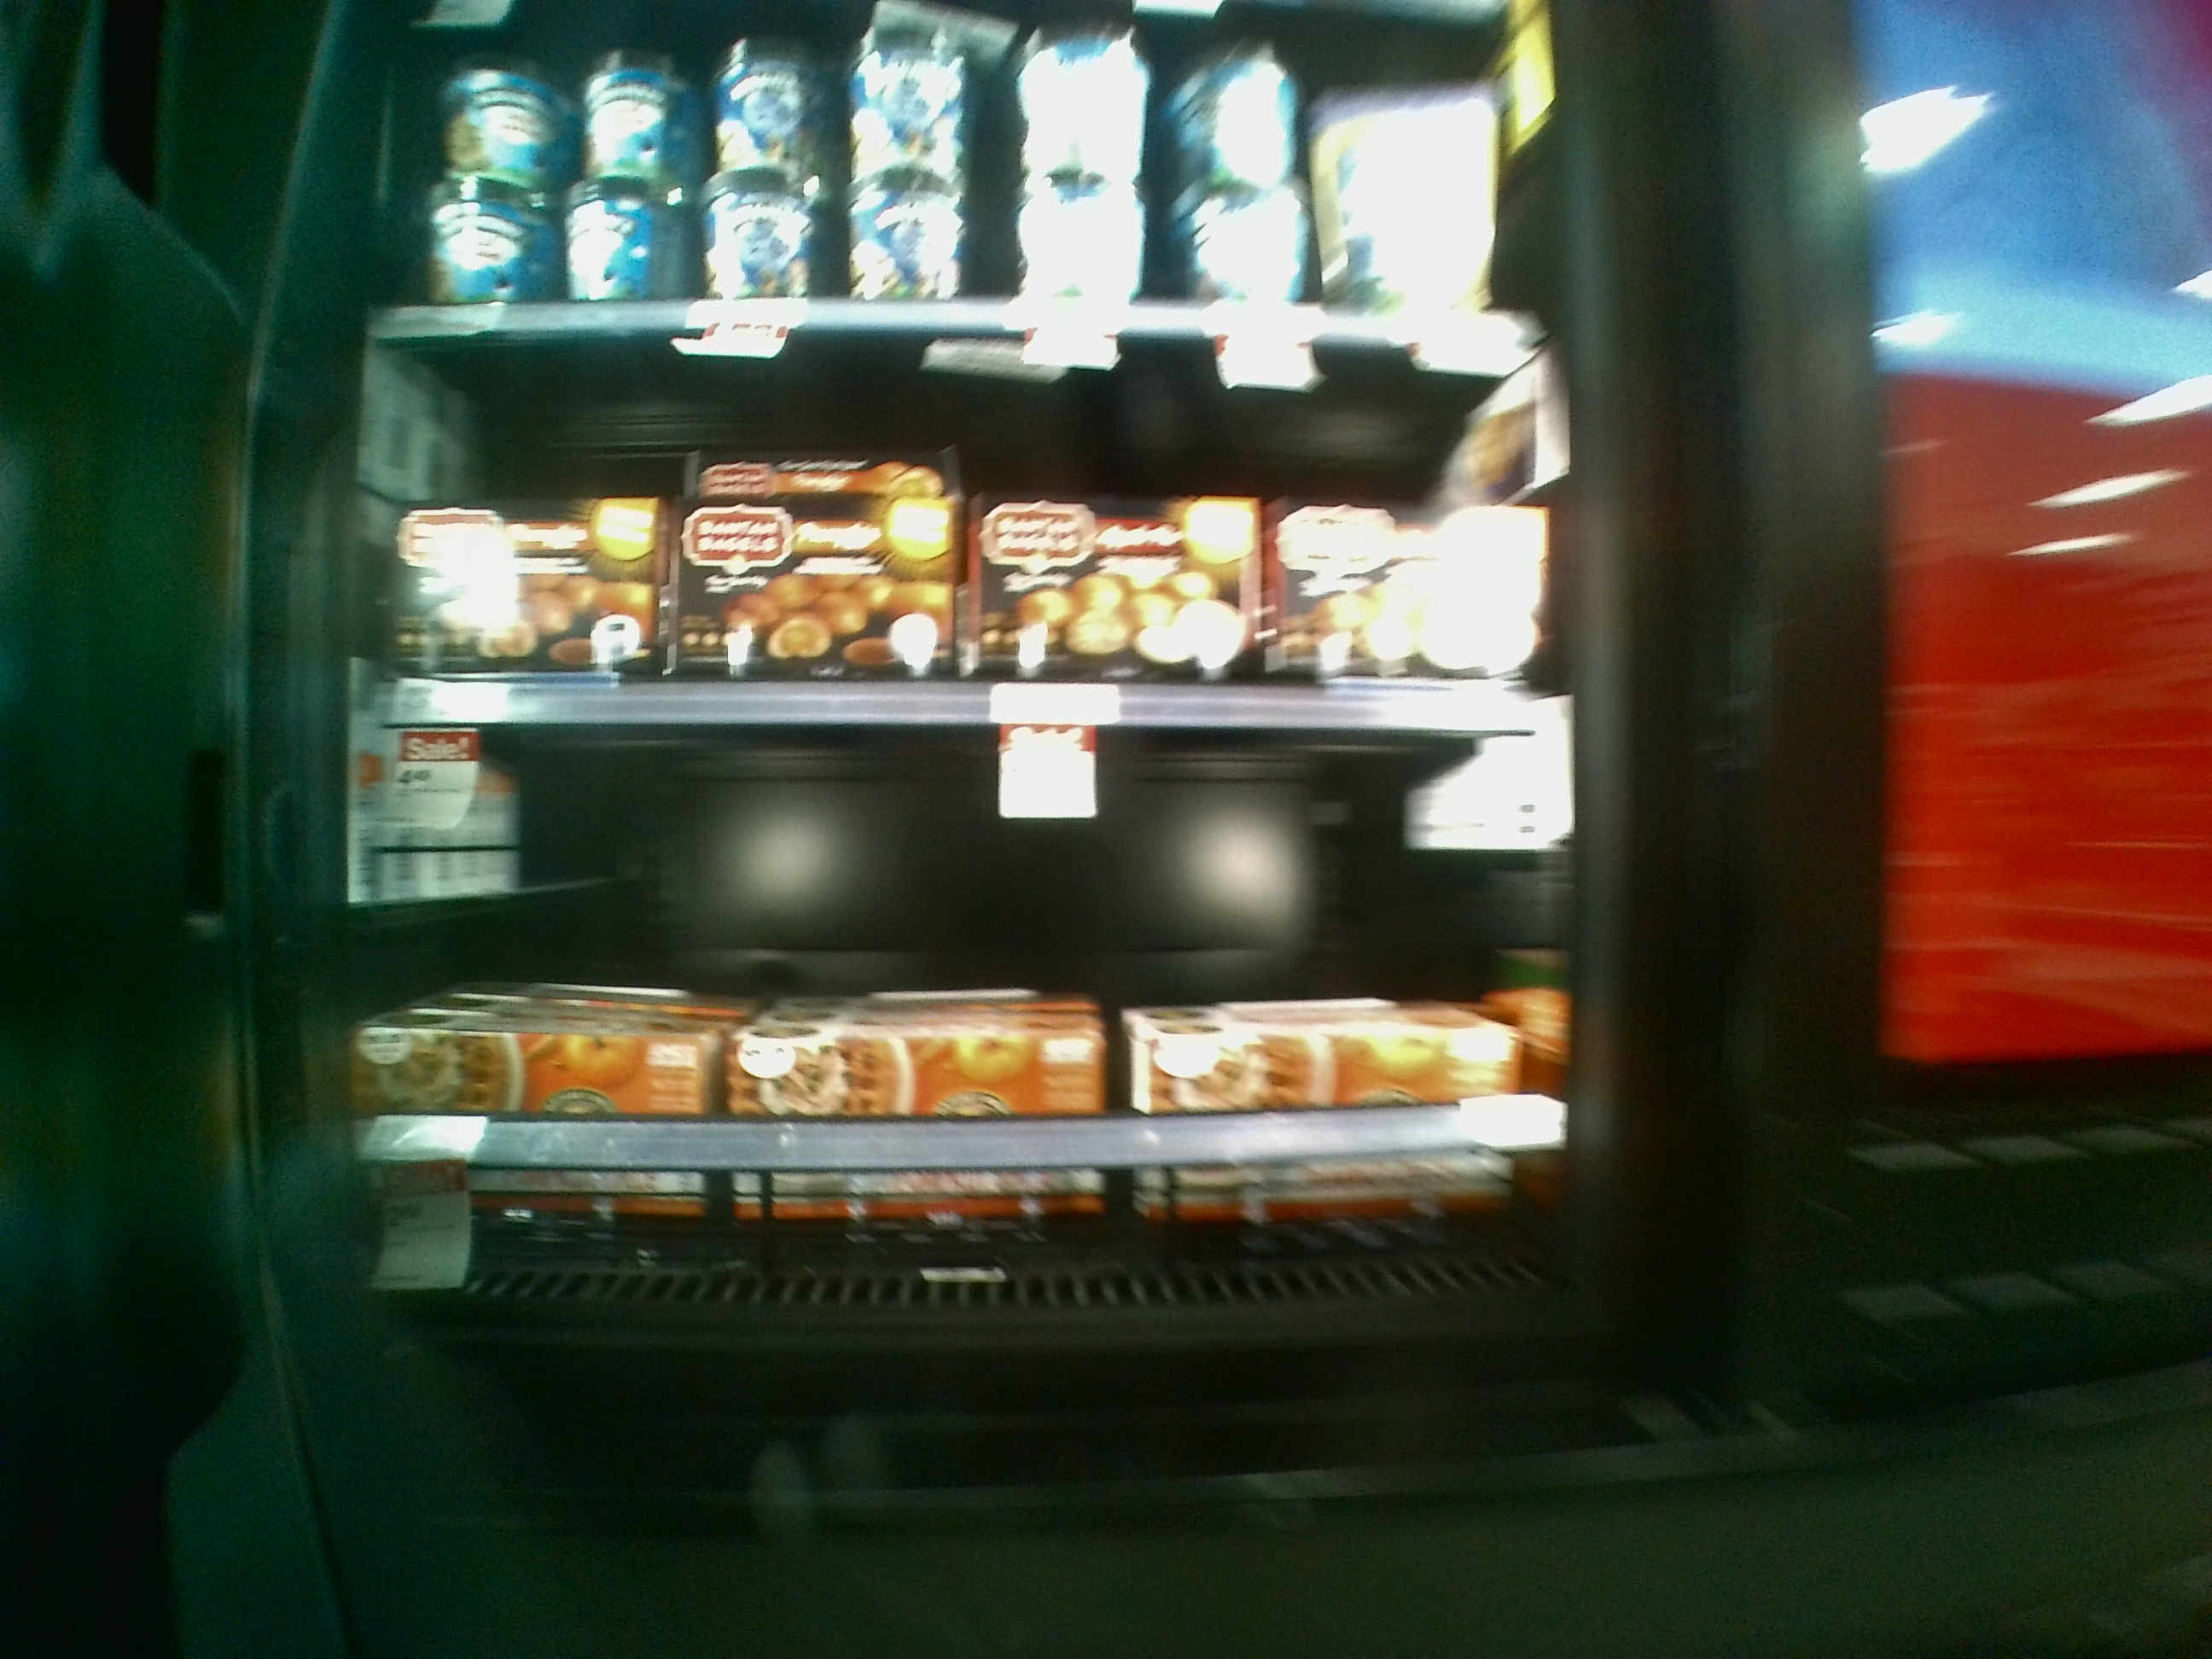shelf: (340, 716, 1575, 1265), (350, 321, 1592, 748)
